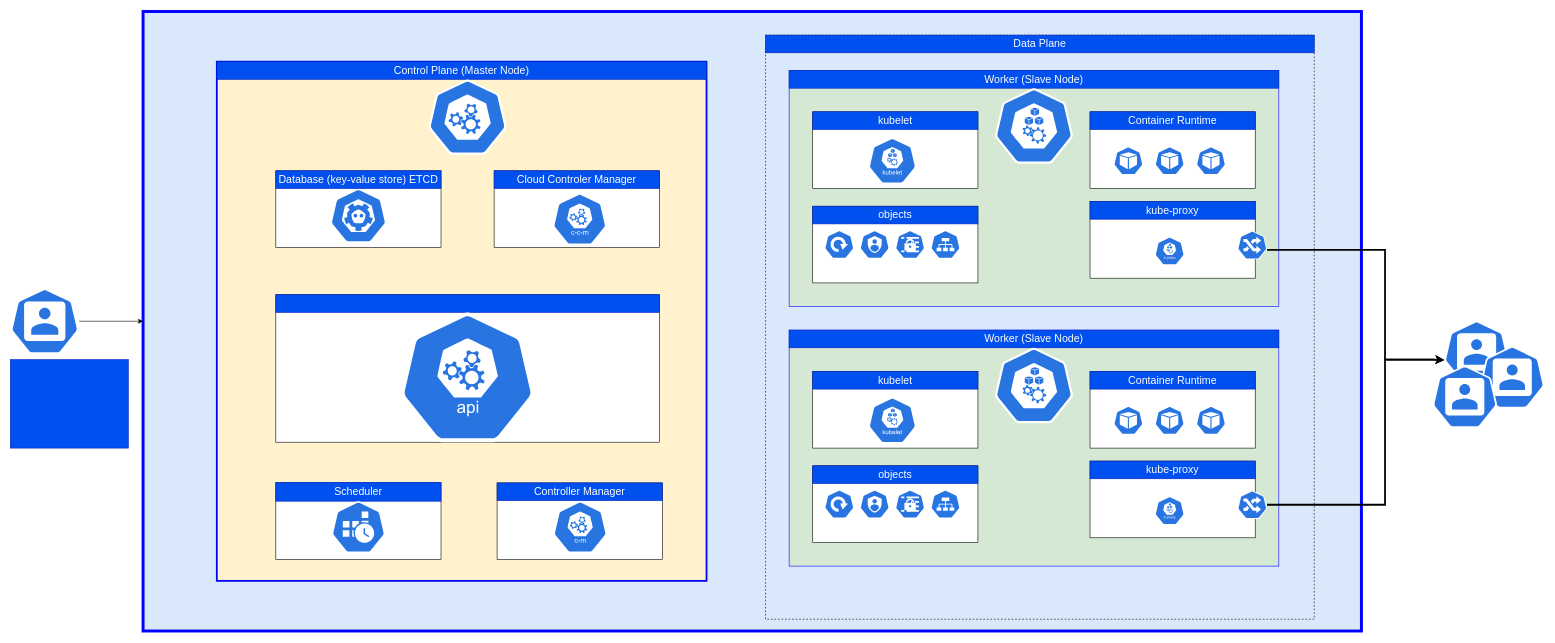
Some shapes in this 1555 by 643 pixel diagram are drawn without their labels. Here are the shapes that lost their labels. From the top down, the centre of each, then its label:
the point at 467,303: API Server
the point at 69,403: Interract with cluster using: GUI(Rancher or cloud) cli (kubectl)
